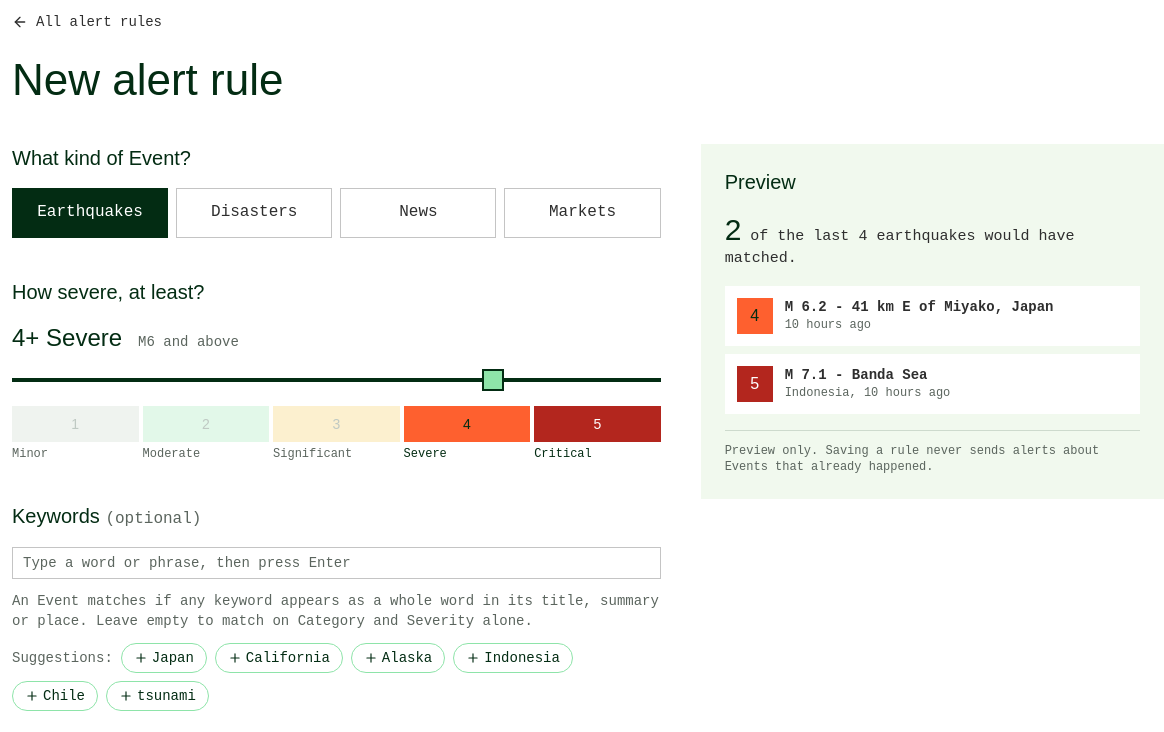
Scenario: Rule editor live preview › loads Events and suggestions for the chosen Category
The width and height of the screenshot is (1164, 732).
Expected: the button with aria-label "Add keyword tsunami" is shown, [106,681,209,711]
Click the radio button labelled "Disasters": (254, 213) [176,188,332,238]
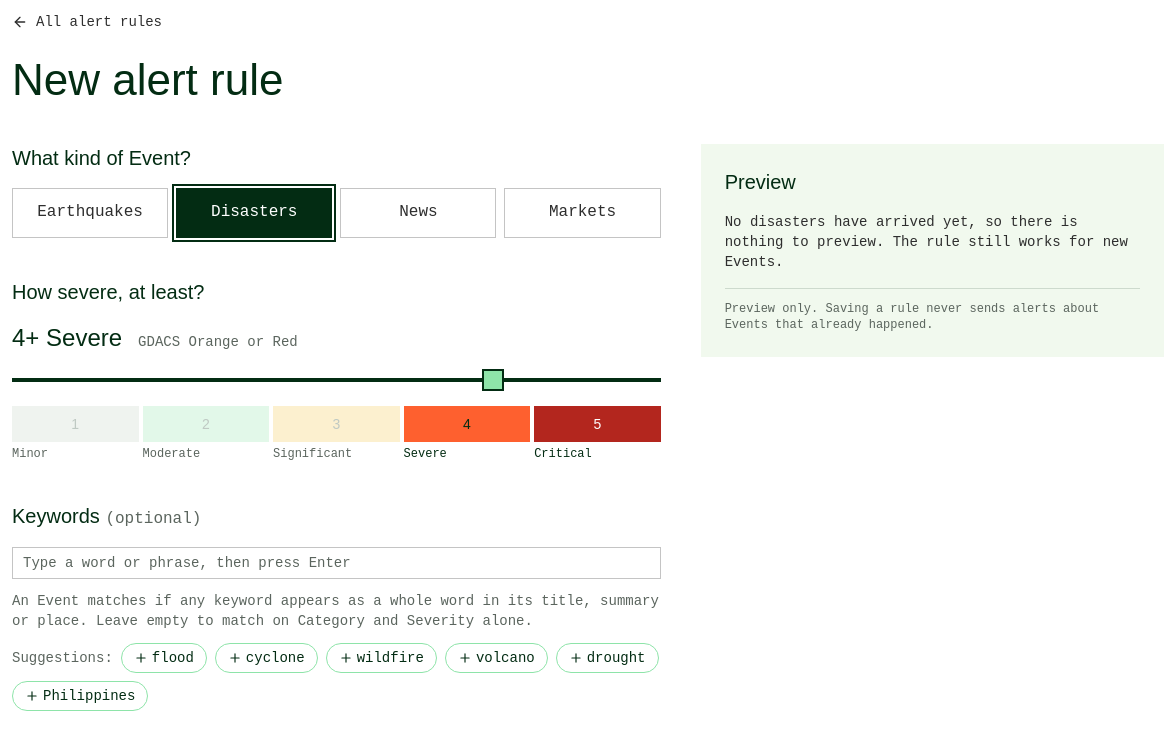
Expected: the text "No disasters have arrived yet" is shown, [725,212,1140,272]
Expected: the button with aria-label "Add keyword flood" is shown, [121,643,207,673]
